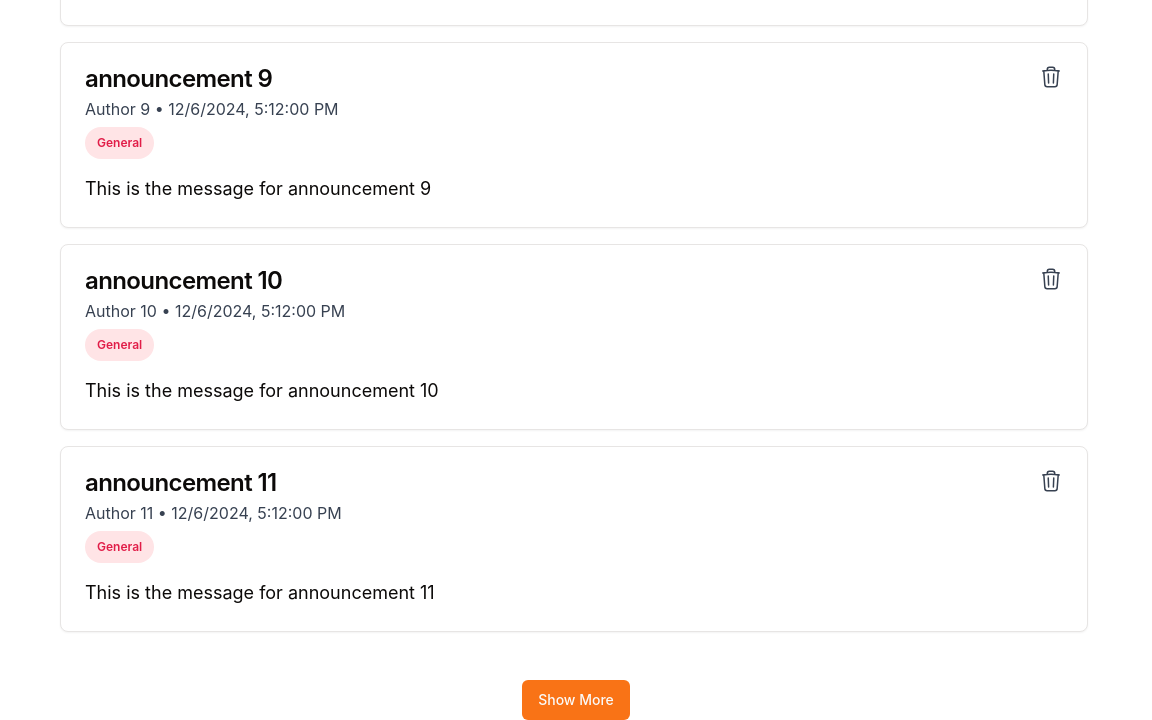
Scenario: Displaying announcements on the Notice Board appropriately › should display the remaining announcements after clicking 'Show More' given 16 announcements
(page scrolled)
# Click the 'Show More' button
Click the button "Show More": click(576, 700) [522,680,630,719]
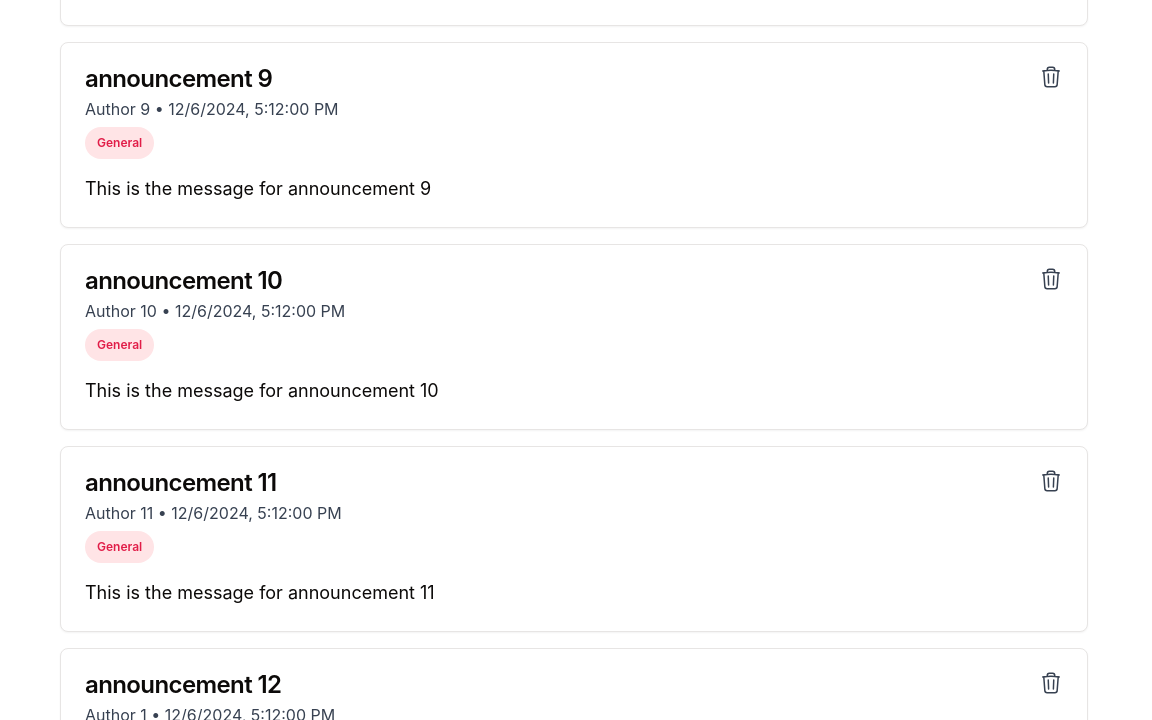
Check: the button "Show More" is gone
